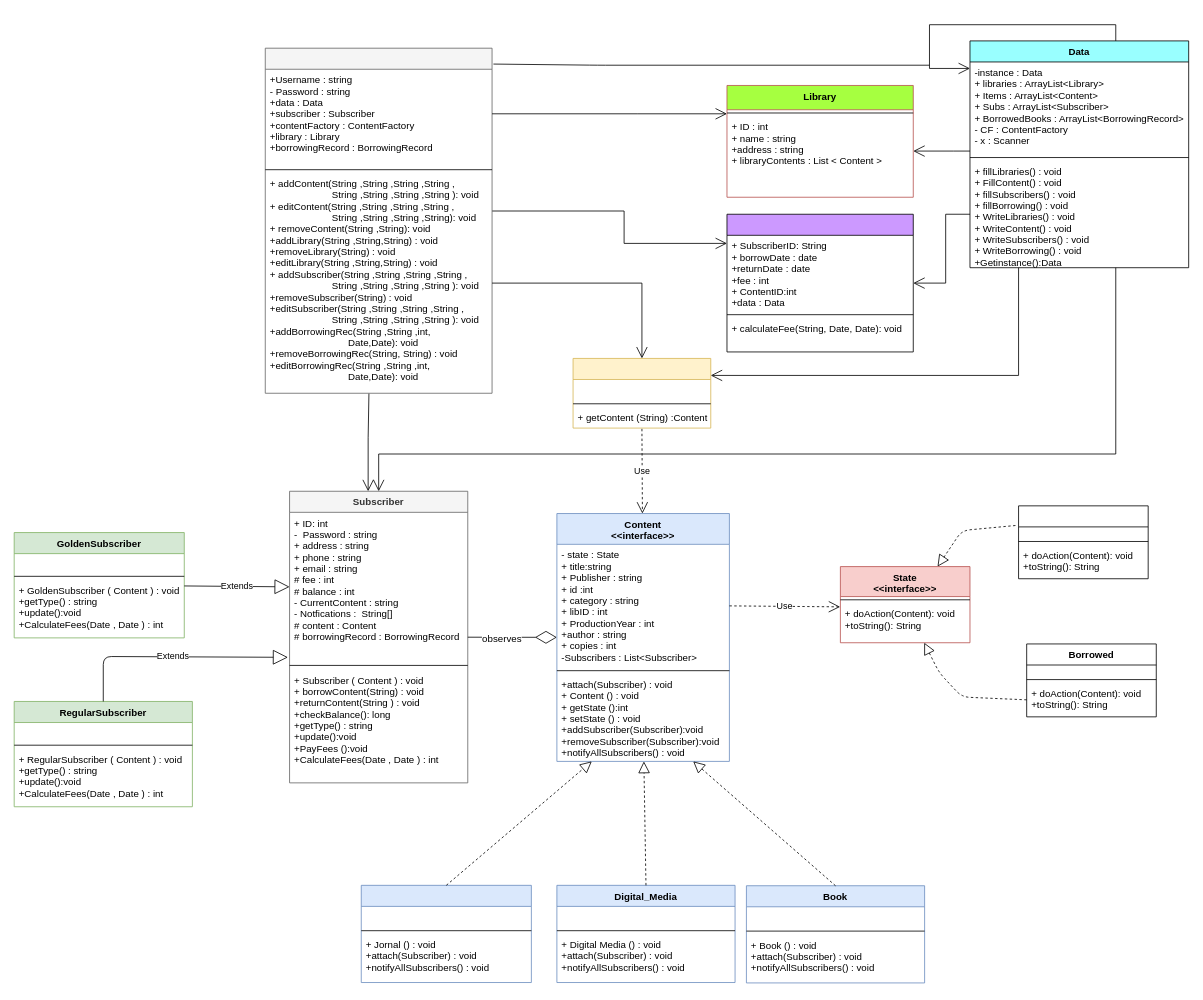
The diagram is 1203 pixels wide and 1000 high, and some of its shapes have lost their labels. Each missing label, with the box of its shape:
Admin: (264, 47, 492, 393)
Borrowing Record: (726, 213, 913, 352)
ContentFactory: (572, 358, 711, 428)
Journal: (360, 885, 531, 983)
OnShelf: (1018, 505, 1148, 579)
